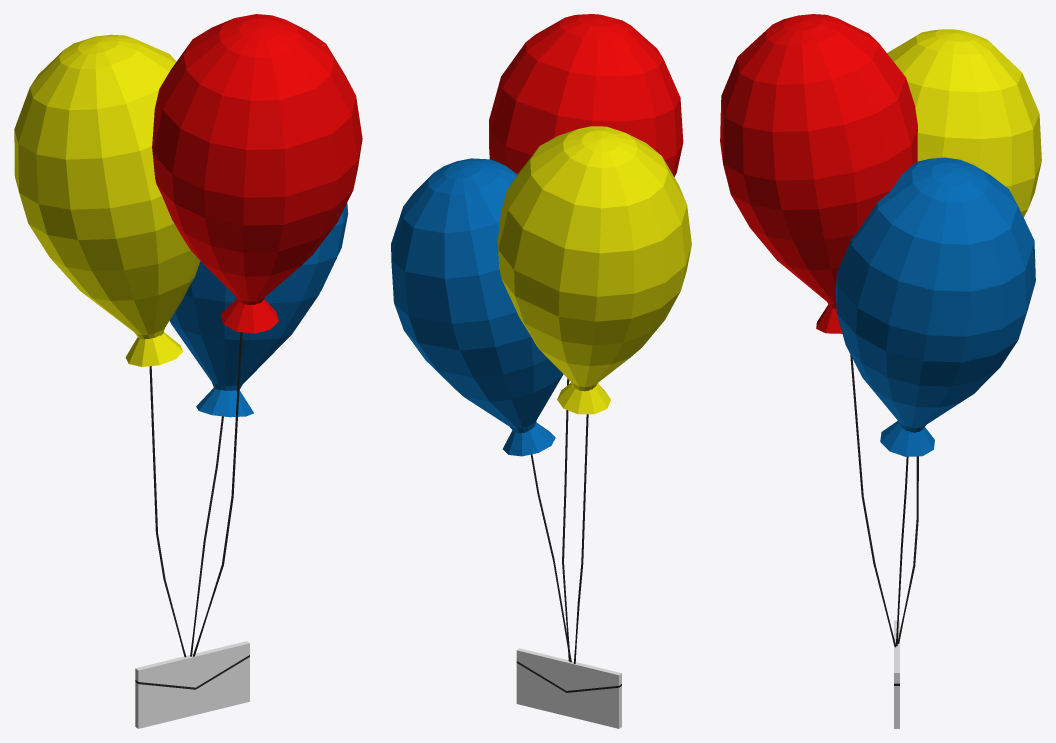
The model's file is Balloons with letter.fbx.
3 views of the same model, side by side, from view 1: azimuth 30°, elevation 25°; view 2: azimuth 150°, elevation 25°; view 3: azimuth 270°, elevation 25° (orthographic). The views are drawn at different scales.
Parts seen in each view (by area): view 1: Sphere003; view 2: Sphere003; view 3: Sphere003.
Part boxes in pixels (left/top/right/bottom): Sphere003: left=14, top=14, right=362, bottom=728; Sphere003: left=391, top=14, right=691, bottom=728; Sphere003: left=720, top=14, right=1041, bottom=728.
Bounding box in the file's own units: 147 × 335 × 142.
